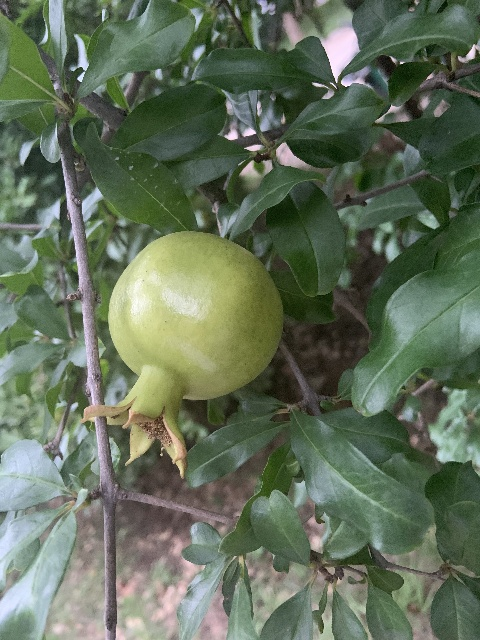mid-growth: (79, 230, 283, 477)
